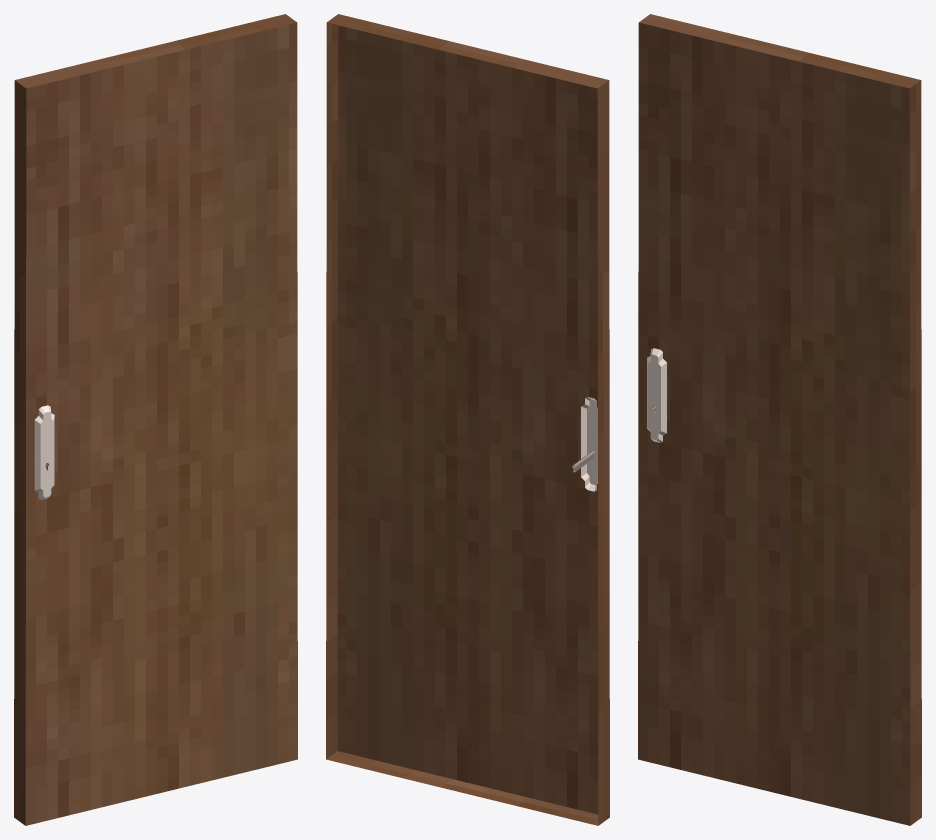
Rendered from porta sozinha.fbx.
3 renders of one model, left to right at view 1: azimuth 30°, elevation 25°; view 2: azimuth 150°, elevation 25°; view 3: azimuth 330°, elevation 25°, orthographic.
Visible parts, largest first — view 1: Cube.045; view 2: Cube.045; view 3: Cube.045.
Part boxes in pixels (x1,y1,x2,y2): Cube.045: (14, 14, 297, 825); Cube.045: (326, 14, 609, 825); Cube.045: (638, 14, 921, 825).
Size of the model in its own units: 81.35 by 210 by 10.
2 materials, 2 textured.
